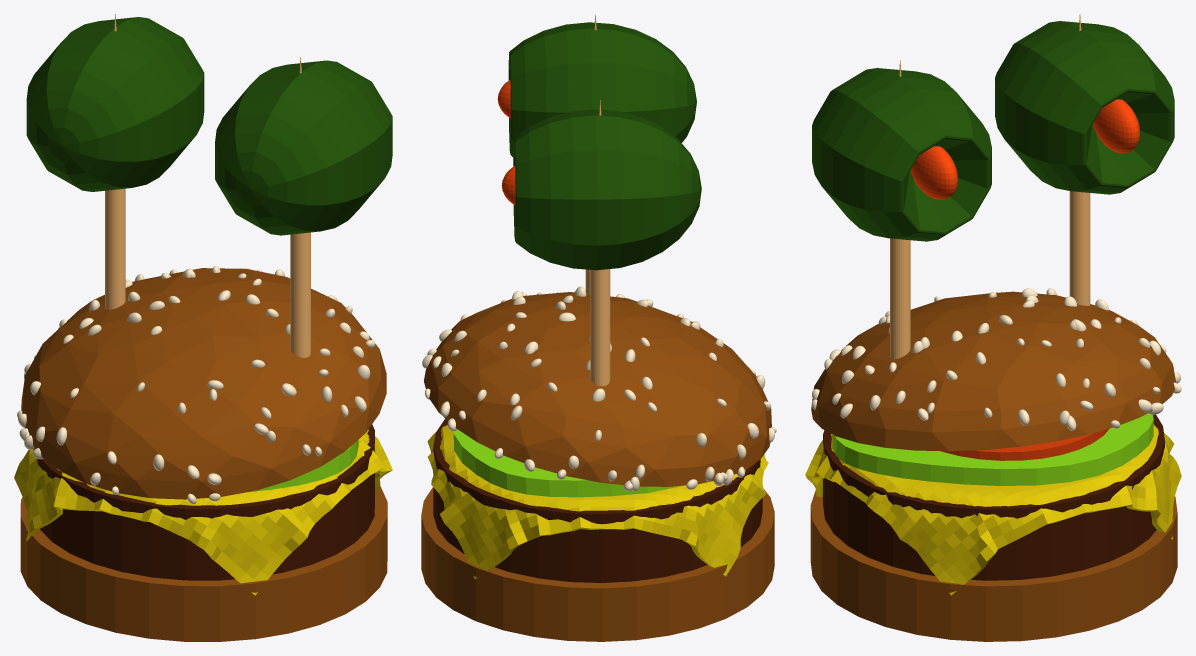
File: bun.fbx
3 views of the same model, side by side, from view 1: azimuth 30°, elevation 25°; view 2: azimuth 150°, elevation 25°; view 3: azimuth 270°, elevation 25° (orthographic). The views are drawn at different scales.
Visible parts, largest first — view 1: bunTop; view 2: bunTop; view 3: bunTop.
Boxes of the visible parts, box(x1,y1,x2,y2) form: bunTop: box(14, 14, 392, 641); bunTop: box(421, 14, 776, 641); bunTop: box(805, 14, 1181, 641).
Bounding box in the file's own units: 206 × 319 × 205.
